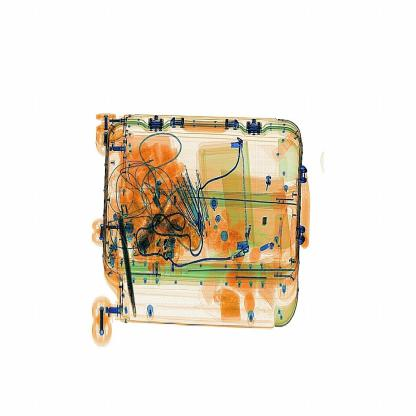wrench: (256, 213, 274, 237)
